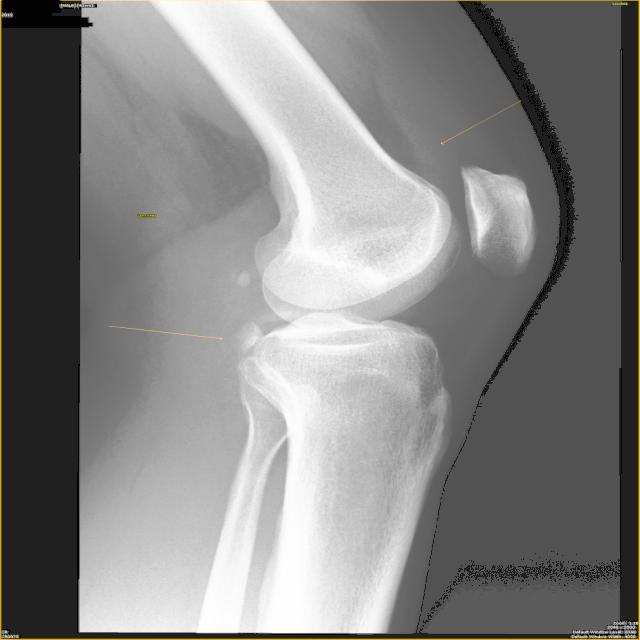Avlusion Fracture: (222, 316, 268, 358)
